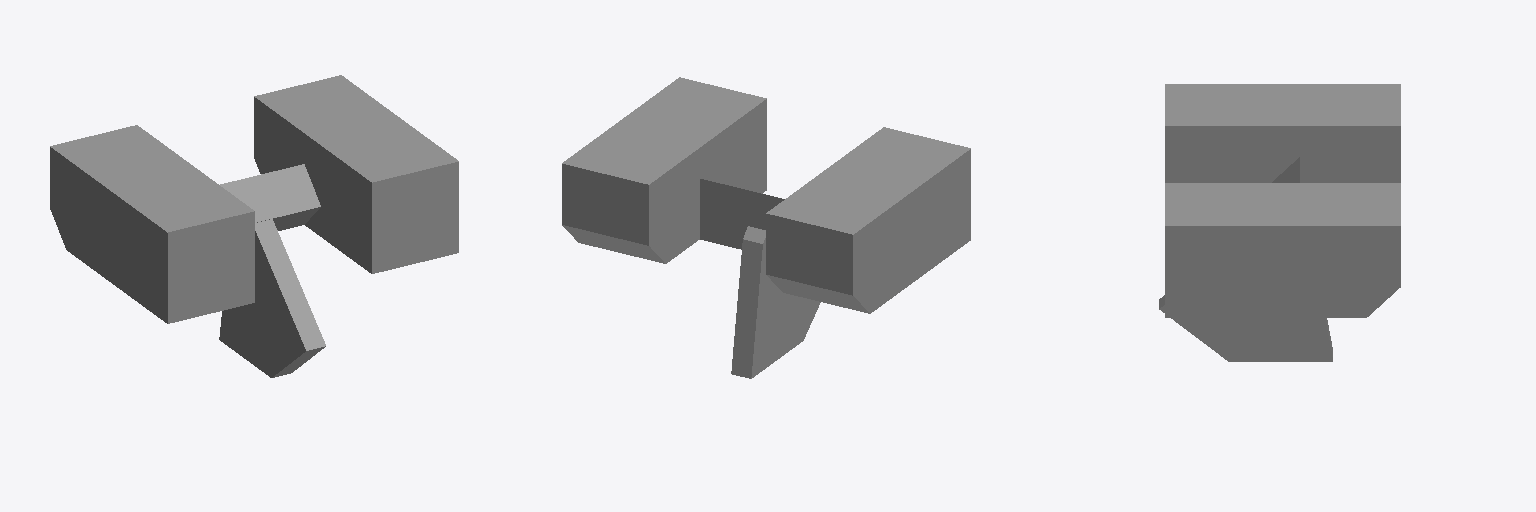
File: launcher.obj
The picture shows the model from 3 angles: view 1: azimuth 30°, elevation 25°; view 2: azimuth 150°, elevation 25°; view 3: azimuth 270°, elevation 25°; orthographic projection.
Visible parts, largest first — view 1: Mesh.002_launcher, Mesh.001_turret; view 2: Mesh.002_launcher, Mesh.001_turret; view 3: Mesh.002_launcher, Mesh.001_turret.
Part boxes in pixels (left/top/right/bottom): Mesh.002_launcher: left=50, top=75, right=458, bottom=323; Mesh.001_turret: left=219, top=219, right=325, bottom=377; Mesh.002_launcher: left=562, top=77, right=970, bottom=313; Mesh.001_turret: left=731, top=226, right=820, bottom=378; Mesh.002_launcher: left=1165, top=84, right=1400, bottom=317; Mesh.001_turret: left=1159, top=295, right=1332, bottom=361.
Size of the model in its own units: 0.837 by 0.5542 by 0.6007.